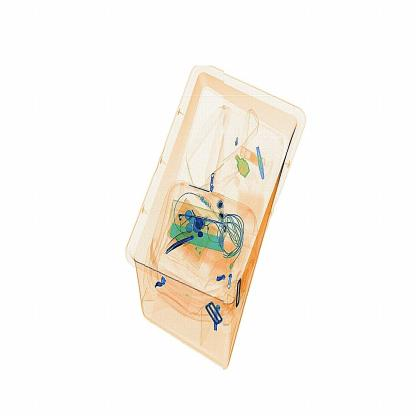pliers: (153, 229, 200, 257)
